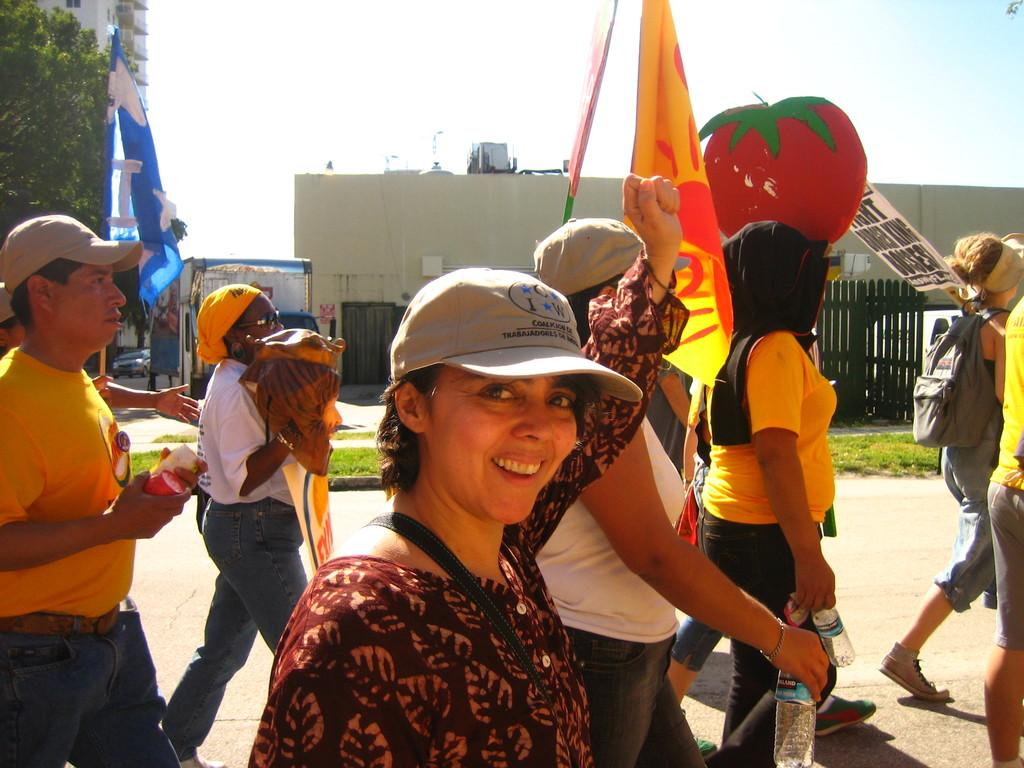Hat: (388, 268, 640, 400), (0, 210, 142, 287)
